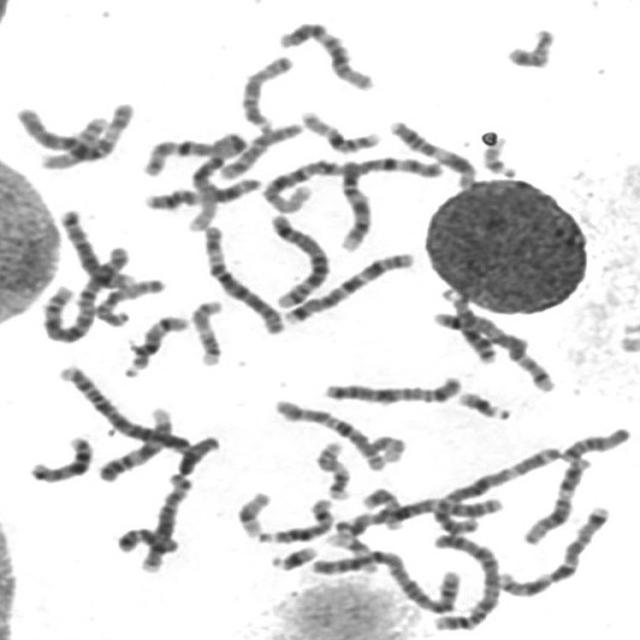A1: (256, 151, 446, 215), (140, 127, 255, 230)
A2: (307, 544, 463, 614), (38, 240, 134, 344)
A3: (427, 441, 563, 537), (328, 491, 506, 540)
B4: (52, 359, 195, 457), (425, 528, 504, 633)
B5: (427, 304, 558, 394), (262, 209, 333, 309)
C10: (268, 393, 389, 473), (208, 120, 308, 187)
C11: (383, 114, 480, 190), (138, 171, 264, 212)
C12: (272, 16, 378, 92), (518, 450, 596, 547)
C6: (197, 218, 289, 335), (12, 98, 136, 164)
C7: (492, 500, 615, 598), (278, 246, 417, 325)
C8: (53, 203, 136, 291), (135, 469, 196, 575)
C9: (92, 403, 176, 483), (335, 156, 374, 253)
D13: (436, 280, 500, 365), (22, 430, 95, 484)
D14: (118, 310, 191, 378), (252, 492, 336, 545)
D15: (235, 49, 297, 132), (89, 273, 168, 328)
E16: (36, 110, 113, 171), (294, 104, 384, 155)
E17: (185, 294, 228, 368), (310, 436, 355, 502)
E18: (556, 422, 633, 463), (112, 522, 183, 556)
F19: (324, 528, 380, 575), (231, 485, 274, 540)
F20: (501, 21, 558, 69), (357, 483, 407, 531)
G21: (451, 385, 514, 422), (263, 540, 320, 573)
G22: (475, 129, 519, 179), (368, 436, 408, 464)
X: (318, 370, 464, 406)
Y: (172, 431, 223, 476)
